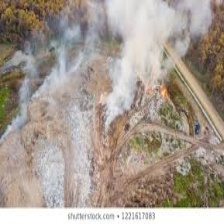smoke: (114, 3, 173, 104)
